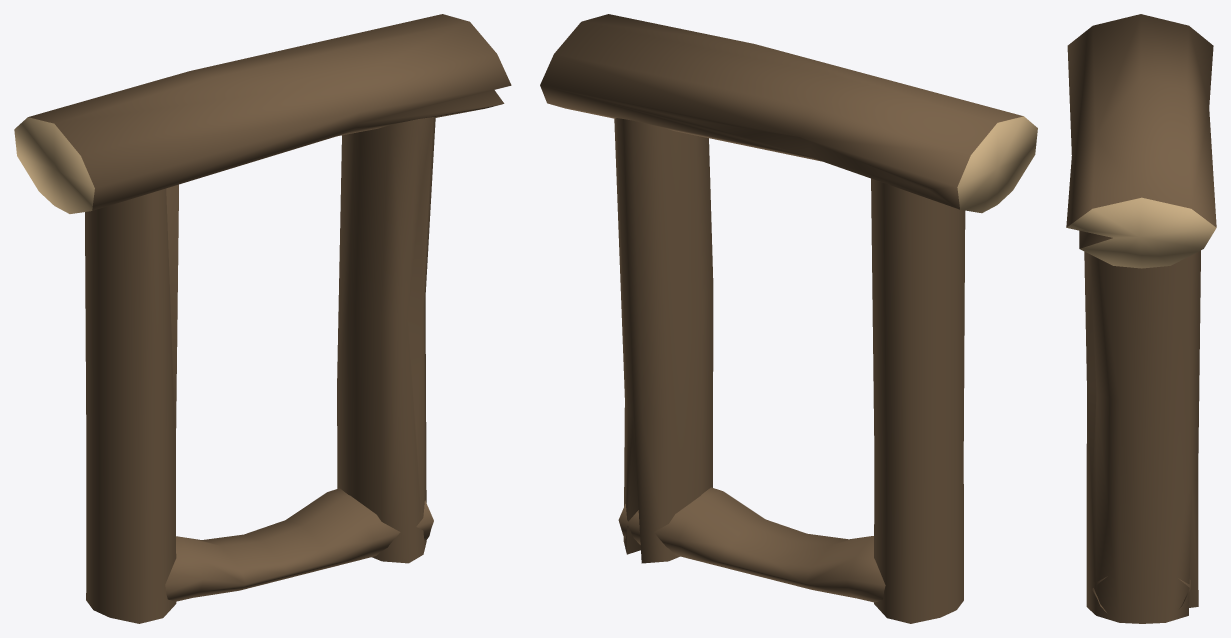
The model's file is rpgpp_ag_door_frame_04.fbx.
3 views of the same model, side by side, from view 1: azimuth 30°, elevation 25°; view 2: azimuth 150°, elevation 25°; view 3: azimuth 270°, elevation 25° (orthographic). The views are drawn at different scales.
Visible parts, largest first — view 1: rpgpp_ag_door_frame_04; view 2: rpgpp_ag_door_frame_04; view 3: rpgpp_ag_door_frame_04.
Boxes of the visible parts, <box> form: rpgpp_ag_door_frame_04: <box>14,14,511,623</box>; rpgpp_ag_door_frame_04: <box>540,14,1037,623</box>; rpgpp_ag_door_frame_04: <box>1066,14,1216,623</box>.
Bounding box in the file's own units: 2.67 × 3.1 × 0.9246.
